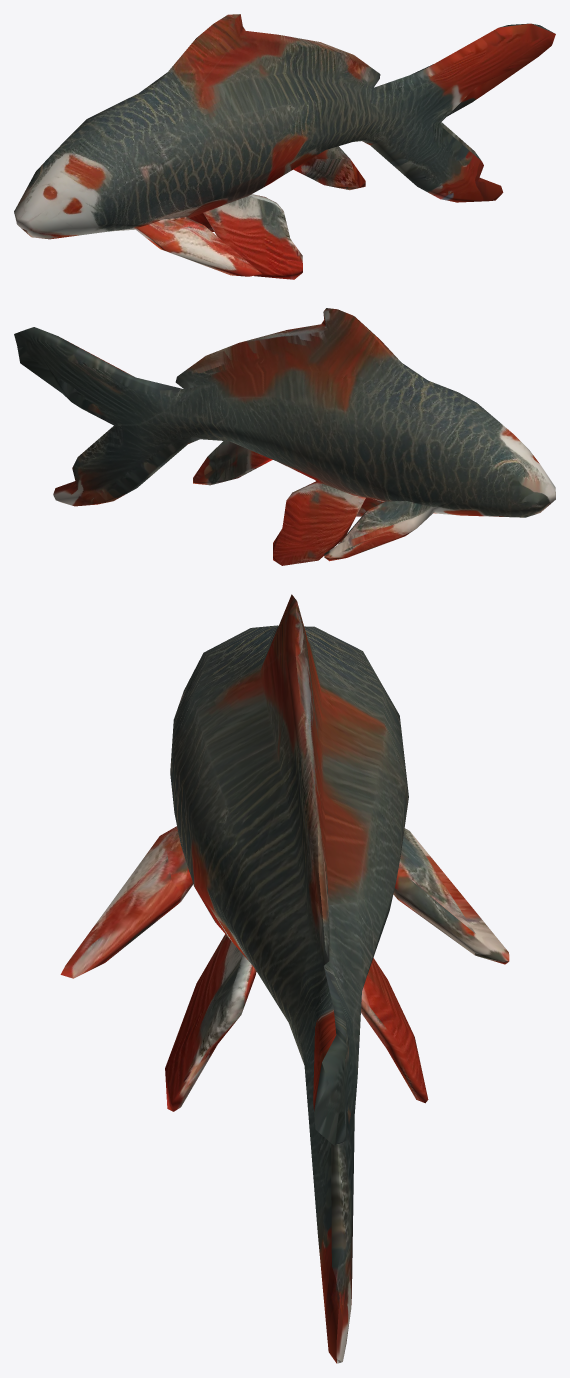
The model's file is koi.glb.
3 renders of one model, top to bottom at view 1: azimuth 30°, elevation 25°; view 2: azimuth 150°, elevation 25°; view 3: azimuth 270°, elevation 25°, orthographic. The views are drawn at different scales.
Parts seen in each view (by area): view 1: mesh_0; view 2: mesh_0; view 3: mesh_0.
Part boxes in pixels (x1,y1,x2,y2): mesh_0: (14,14,555,279); mesh_0: (14,308,555,565); mesh_0: (60,594,509,1363).
Size of the model in its own units: 6.39 by 2.89 by 2.34.
Materials: 1 (1 with a texture image).
